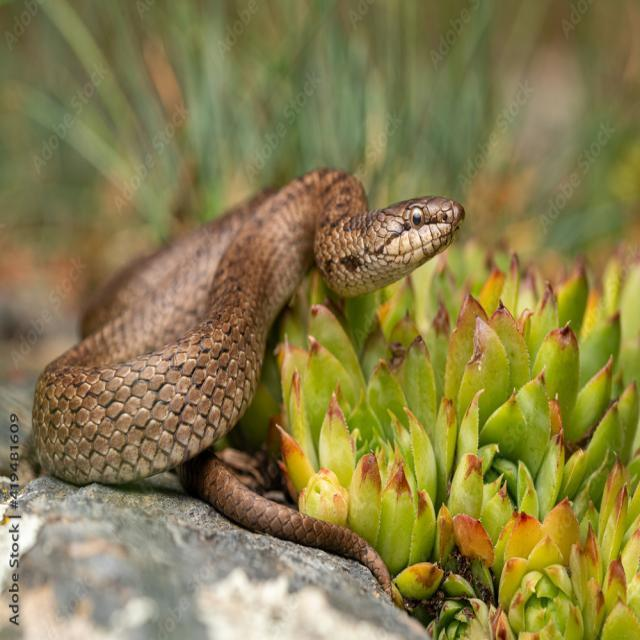Snake: (30, 160, 475, 608)
